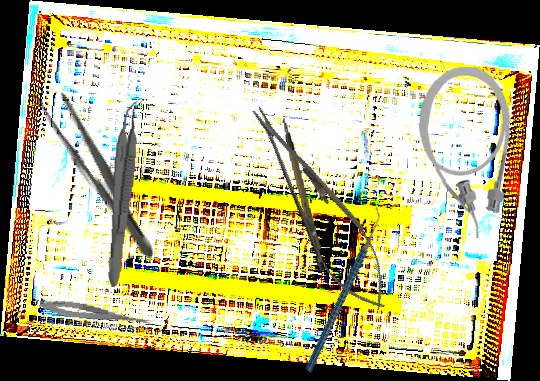Cannula: (416, 66, 513, 239)
Chopper: (258, 202, 427, 373)
Dressing Forceps: (27, 77, 168, 267)
Micro Scissor: (38, 297, 156, 329)
Needle Holder: (233, 93, 406, 323)
Scalpel Handle: (281, 112, 328, 275)
Tissue Forceps: (105, 98, 144, 289)
